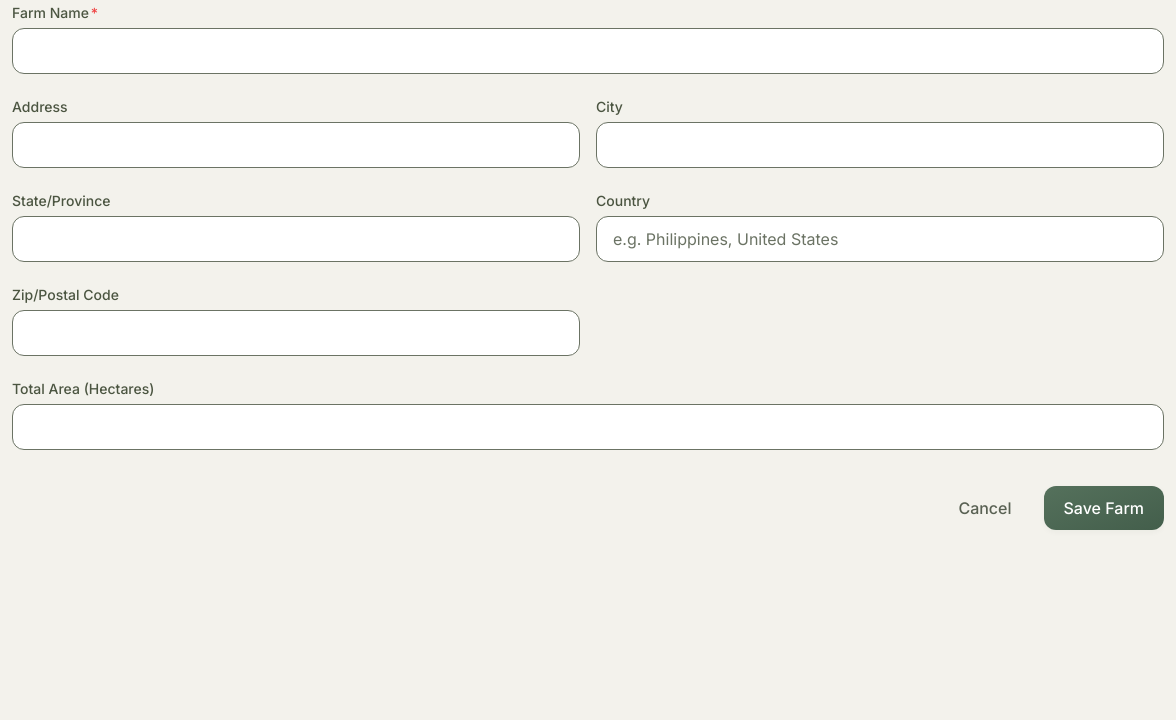
Scenario: CreateFarmForm.vue › blocks total area outside 0..1000000
In the field with id "farm-name": {"x": 588, "y": 51} x1=12 y1=28 x2=1164 y2=74, type "Green Acres"
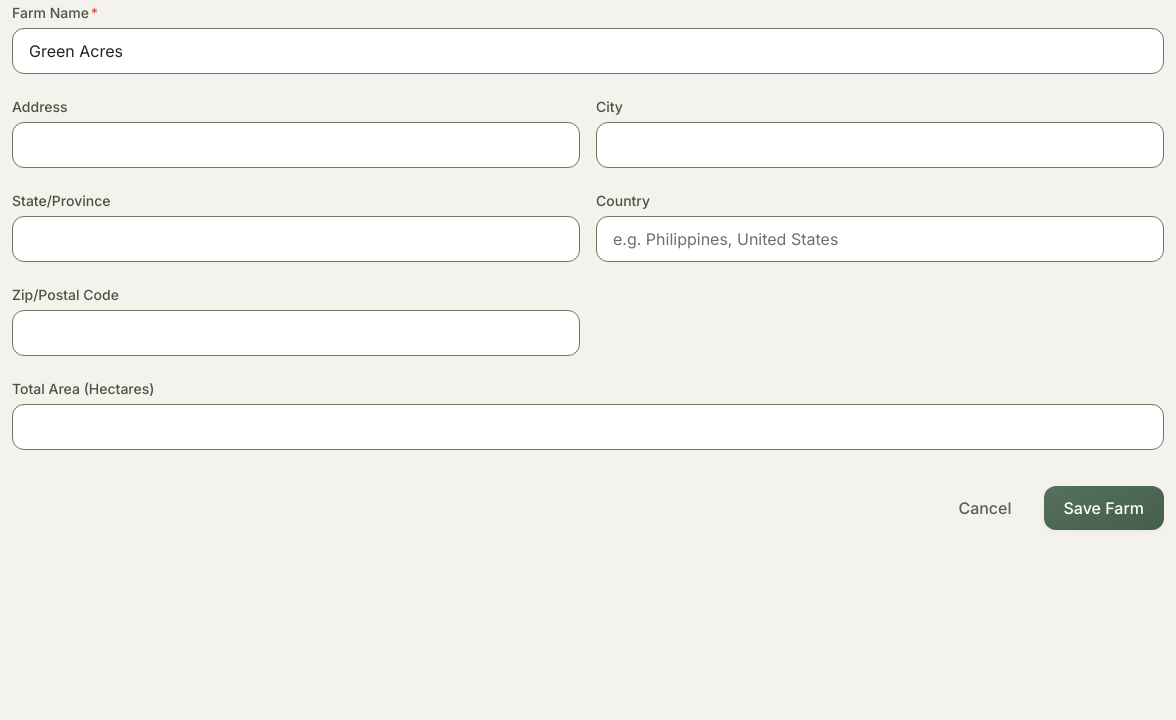
In the number field with id "farm-area": {"x": 588, "y": 427} x1=12 y1=404 x2=1164 y2=450, type "-5"
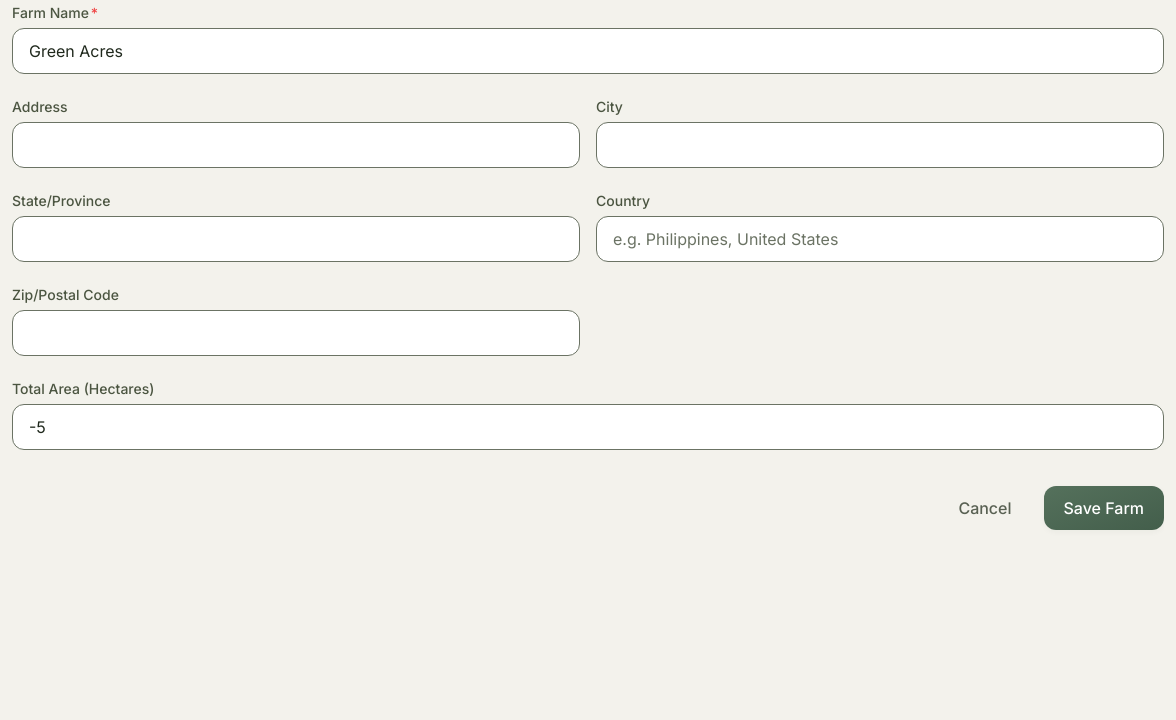
Submit the form
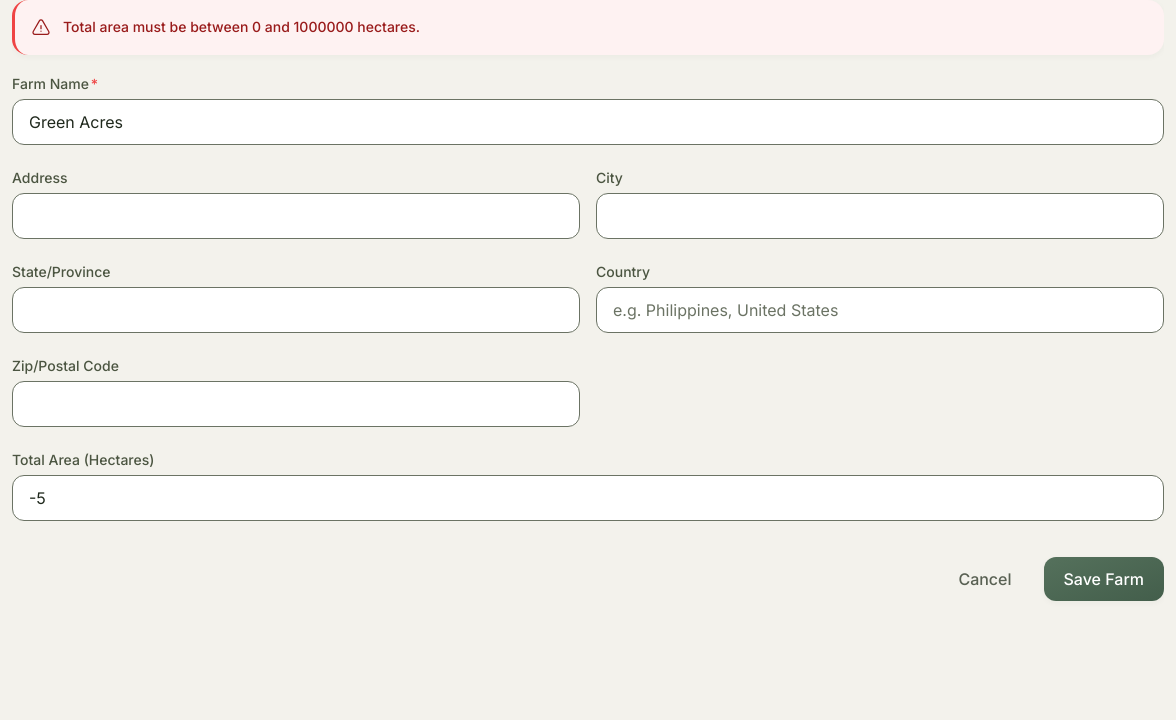
Expected: the text "must be between 0 and 1000000" is shown, x1=63 y1=18 x2=420 y2=35
